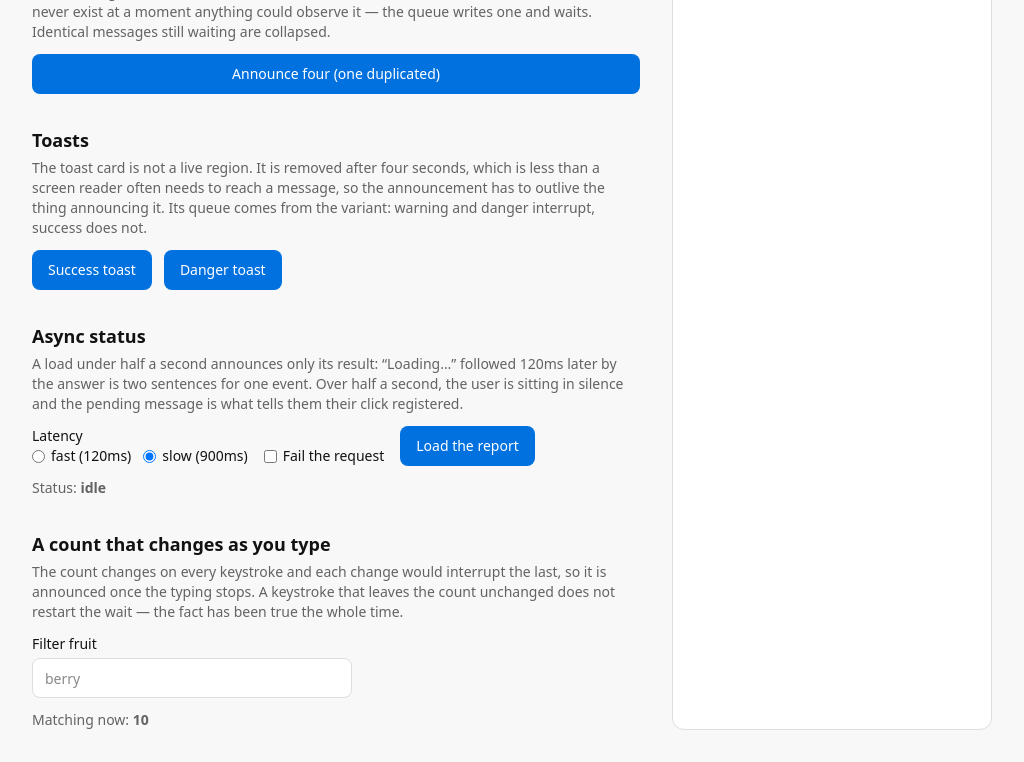
Test: <LiveRegionsLabPage> › interrupts for a failed load
This screenshot has width=1024, height=762.
(page scrolled)
Click the checkbox with test id "should-fail": (270, 456) top-left (264, 450), bottom-right (277, 462)
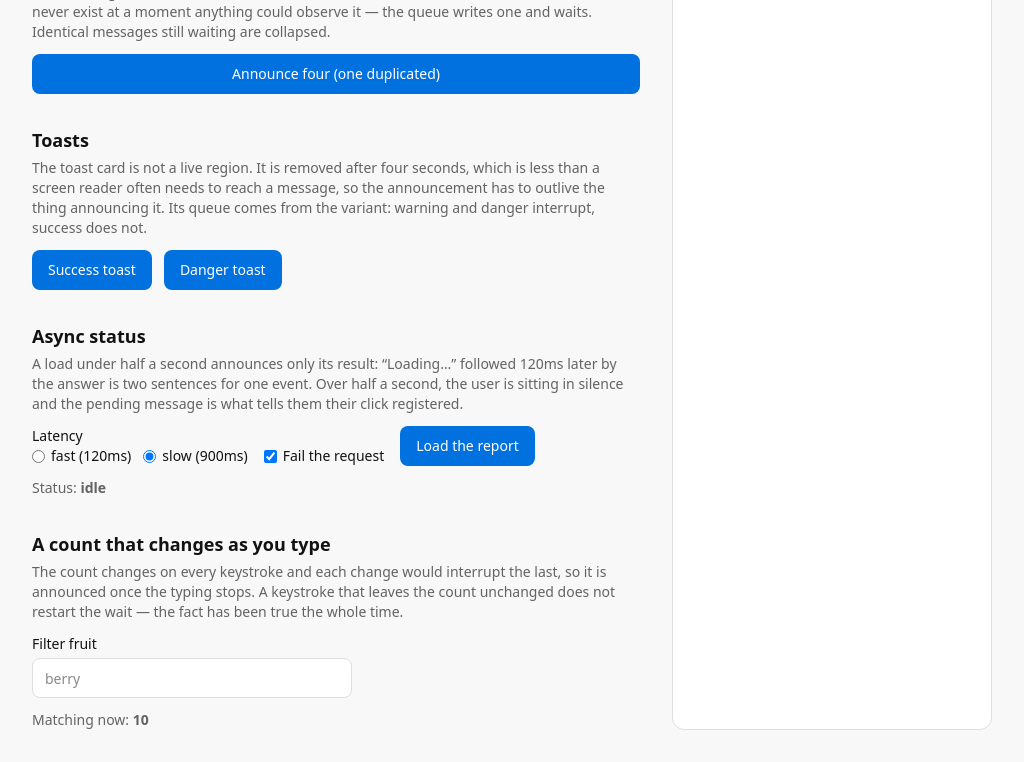
Click the button with test id "run-query": (468, 446) top-left (400, 426), bottom-right (535, 466)
Wait 2000 ms
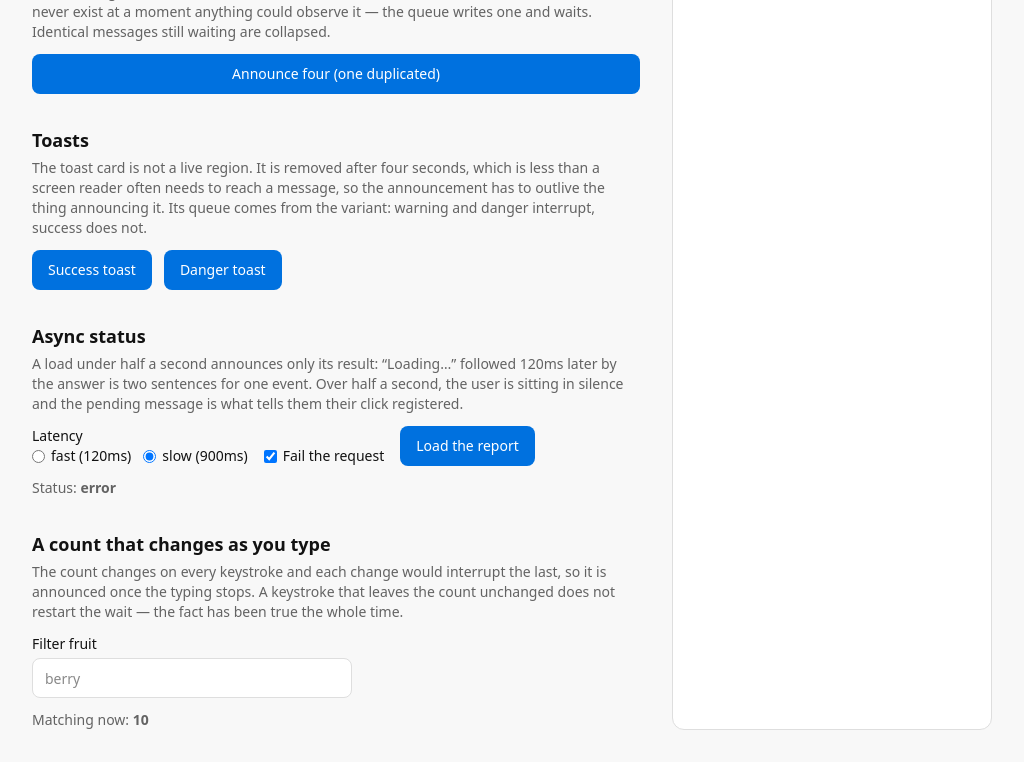
Expected: the text with test id "query-status" reads "error", top-left (80, 478), bottom-right (116, 497)
